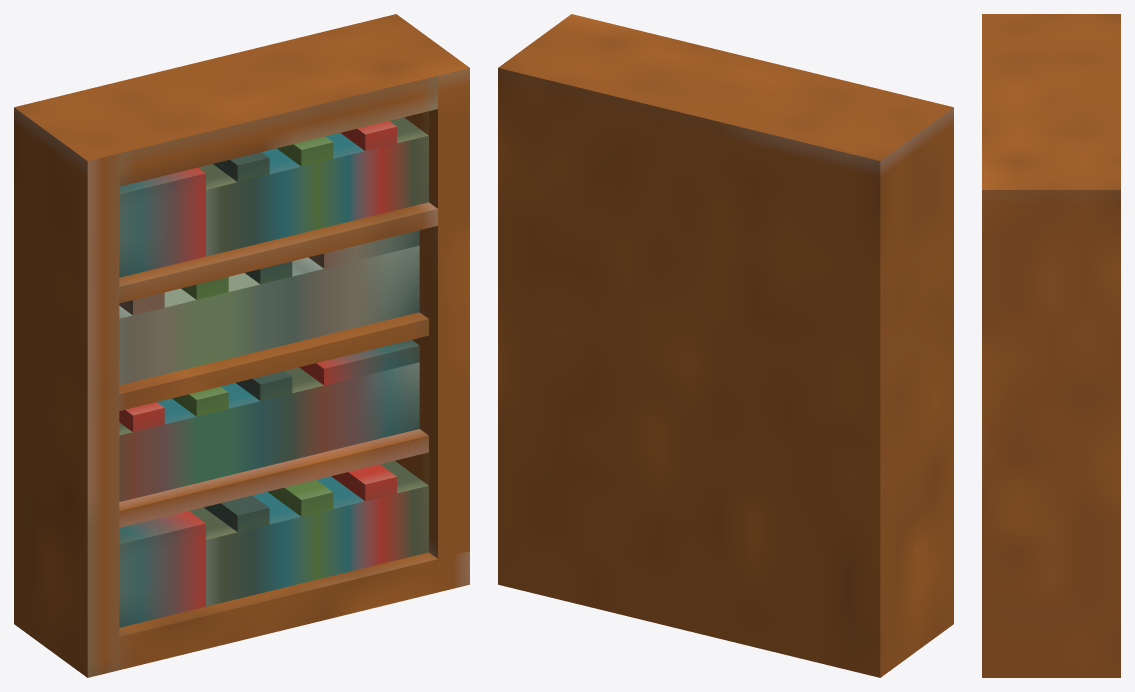
The model's file is BookshelfMini_00.fbx.
3 renders of one model, left to right at view 1: azimuth 30°, elevation 25°; view 2: azimuth 150°, elevation 25°; view 3: azimuth 270°, elevation 25°, orthographic. The views are drawn at different scales.
Visible parts, largest first — view 1: BookshelfMini_00; view 2: BookshelfMini_00; view 3: BookshelfMini_00.
Part boxes in pixels (x1=…): BookshelfMini_00: x1=14, y1=14, x2=469, y2=677; BookshelfMini_00: x1=498, y1=14, x2=953, y2=677; BookshelfMini_00: x1=982, y1=14, x2=1120, y2=677.
Bounding box in the file's own units: 120 × 40 × 155.
1 material, 1 textured.
